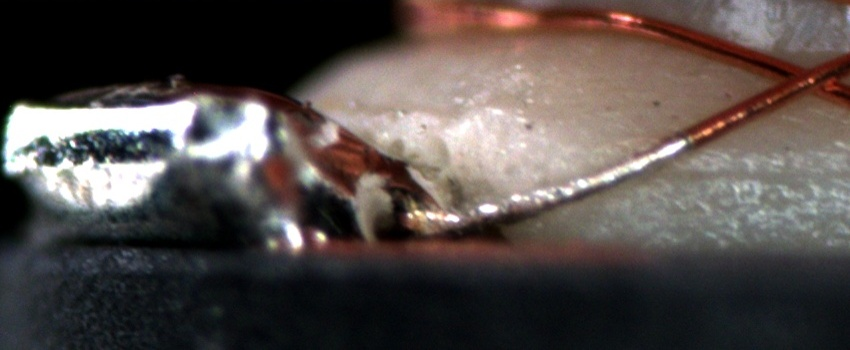CL: (758, 52, 845, 102)
DL: (626, 140, 850, 204)
